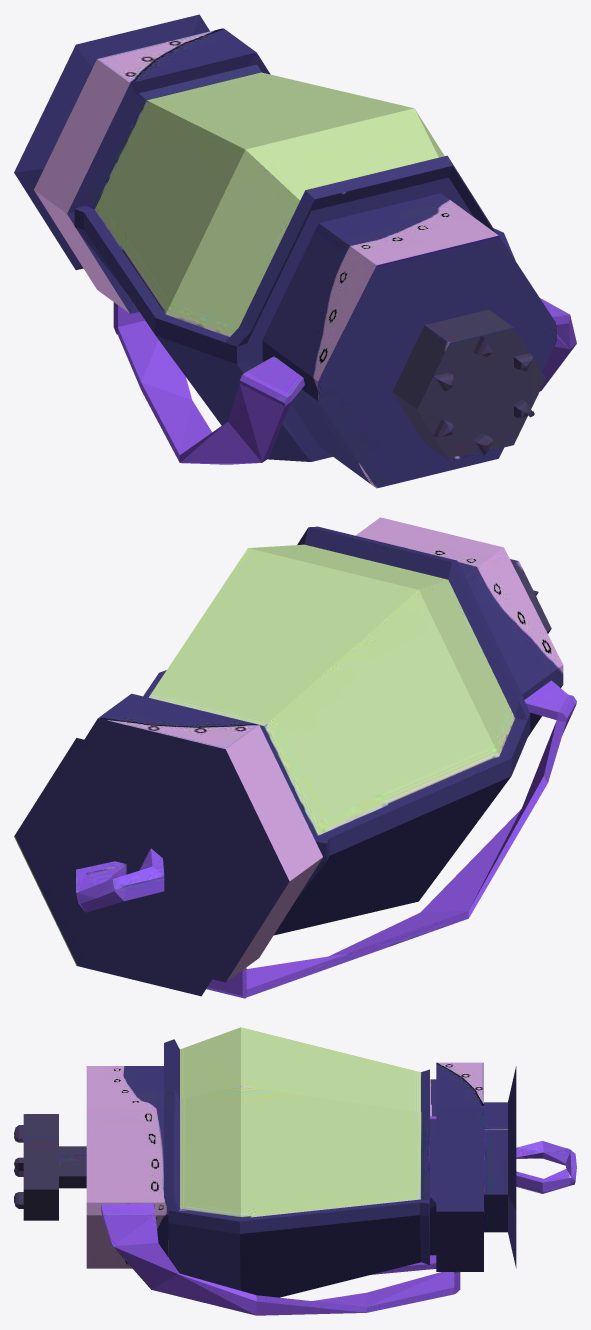
Rendered from Enemy2.fbx.
3 renders of one model, top to bottom at view 1: azimuth 30°, elevation 25°; view 2: azimuth 150°, elevation 25°; view 3: azimuth 270°, elevation 25°, orthographic. The views are drawn at different scales.
Visible parts, largest first — view 1: Body; view 2: Body; view 3: Body.
Boxes of the visible parts, x1=… form: Body: x1=14, y1=14, x2=576, y2=488; Body: x1=14, y1=517, x2=576, y2=998; Body: x1=14, y1=1027, x2=576, y2=1315.
Size of the model in its own units: 0.63 by 0.57 by 1.23.
